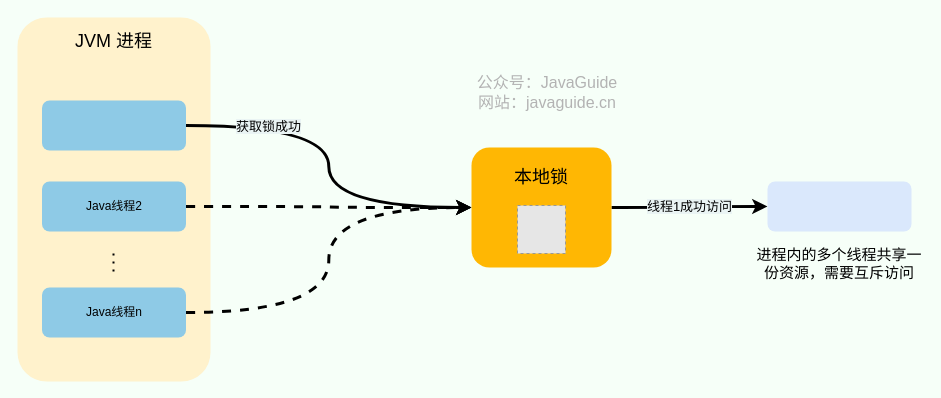
Some shapes in this 941 by 398 pixel diagram are drawn without their labels. Grey dashed boxes stand in for pictures. The shapes that lost their labels are listed below. From the top down, each one's centre as x and y in pixels, then its label:
(114,125): Java线程1
(839,206): 共享资源
